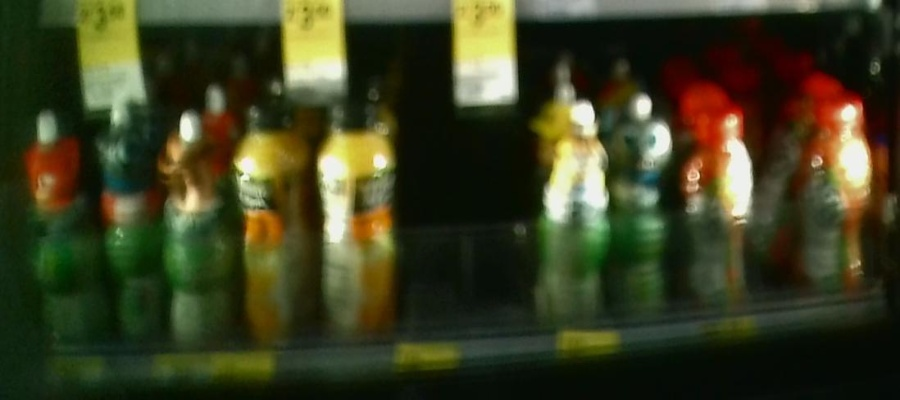bottle: (318, 89, 399, 354), (234, 98, 315, 350), (19, 109, 93, 356), (161, 108, 232, 356), (541, 103, 609, 338), (678, 106, 757, 307), (96, 101, 158, 354), (612, 91, 671, 319), (806, 94, 870, 294), (760, 104, 802, 280)
